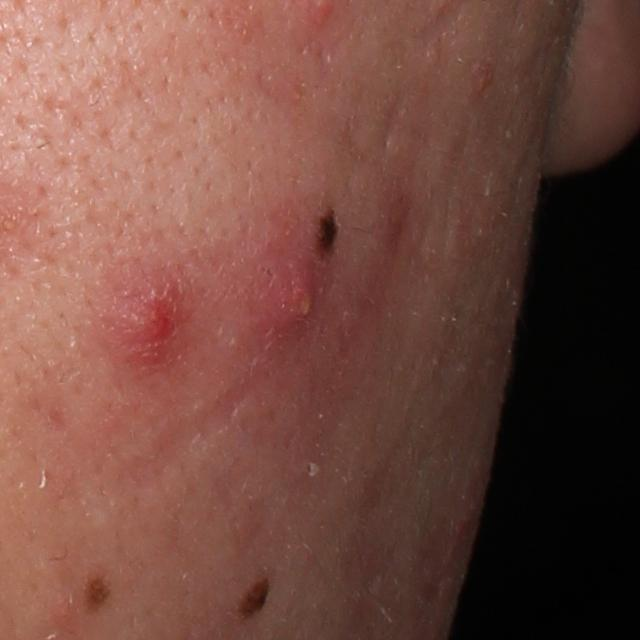atrophic_scar: (381, 93, 415, 153)
nevus: (308, 203, 346, 263), (236, 571, 273, 625), (79, 572, 116, 611)
papule: (99, 254, 208, 370), (467, 60, 497, 100)
pustule: (250, 257, 322, 350)
